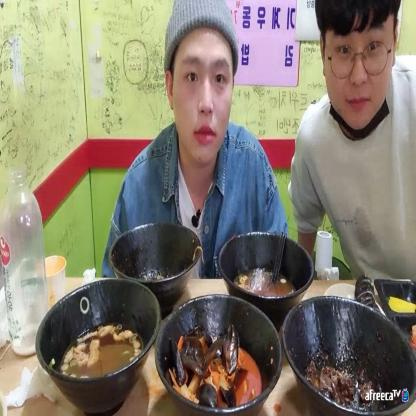streamer: (102, 0, 289, 279), (287, 0, 416, 281)
